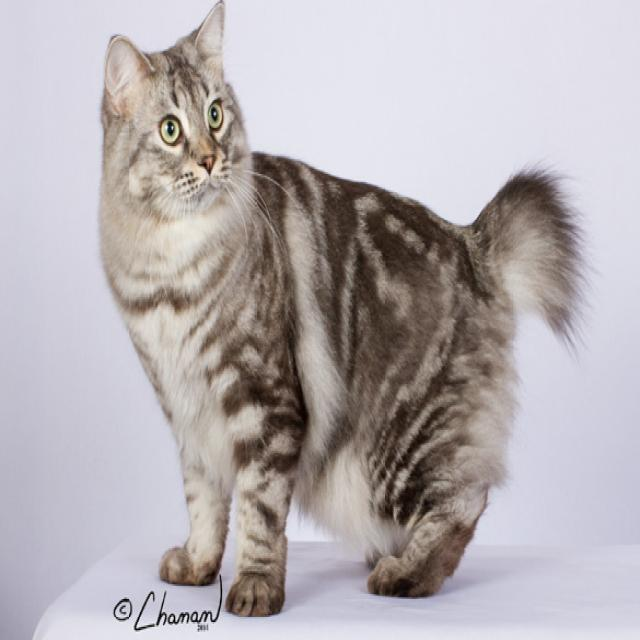American Bobtail: (94, 0, 589, 624)
